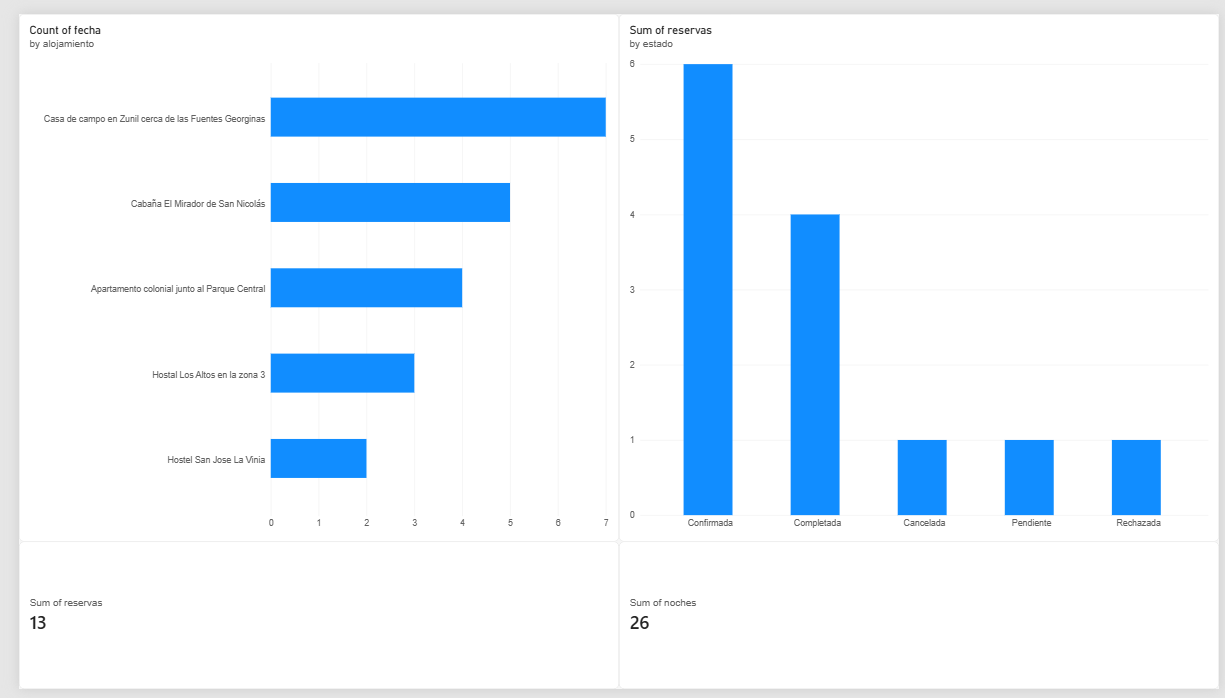

Layout of this report page (visuals, bound fields, positions):
{"tool":"powerbi","page":{"name":"Ocupación","canvas":[1920,1080],"ordinal":1},"visuals":[{"type":"clusteredBarChart","fields":{"Category":["bi ocupacion_por_alojamiento.alojamiento"],"Y":["CountNonNull(bi ocupacion_por_alojamiento.fecha)"]},"box":[0,0,960,844],"z":0},{"type":"clusteredColumnChart","fields":{"Category":["bi reservas_por_estado.estado"],"Y":["Sum(bi reservas_por_estado.reservas)"]},"box":[960,0,960,844],"z":1},{"type":"cardVisual","fields":{"Data":["Sum(bi reservas_por_estado.reservas)"]},"box":[0,844,960,236],"z":2},{"type":"cardVisual","fields":{"Data":["Sum(bi reservas_por_estado.noches)"]},"box":[960,844,960,236],"z":3}]}

Visuals, with their boxes in screenshot pixels (x1, y1, x2, y2), scaled from the page's 1920x1080 canvas onto the 1225x698 screenshot:
clusteredBarChart - bi ocupacion_por_alojamiento.alojamiento x CountNonNull(bi ocupacion_por_alojamiento.fecha): <box>0,0,612,545</box>
clusteredColumnChart - bi reservas_por_estado.estado x Sum(bi reservas_por_estado.reservas): <box>612,0,1224,545</box>
cardVisual - Sum(bi reservas_por_estado.reservas): <box>0,545,612,697</box>
cardVisual - Sum(bi reservas_por_estado.noches): <box>612,545,1224,697</box>
